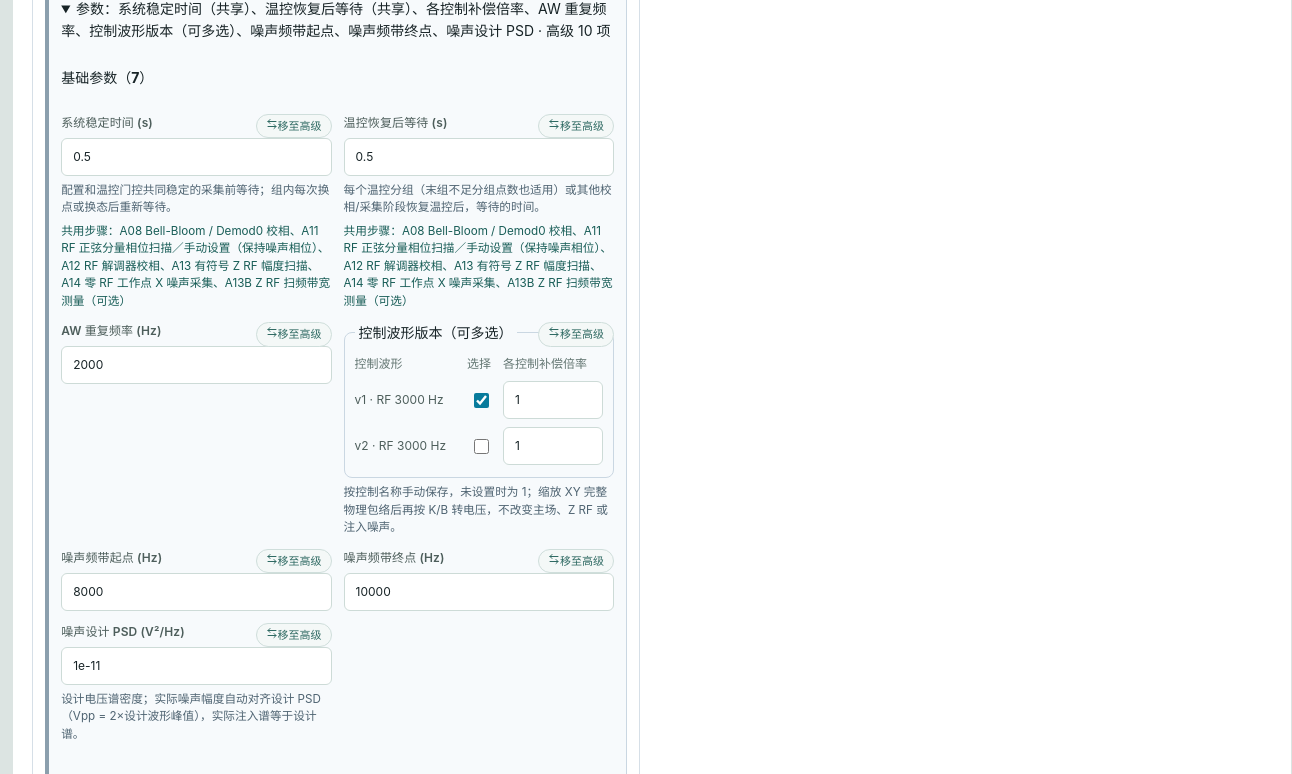
波形名称、勾选框和各自系数在同一行，多选补偿按名称保存
(page scrolled)
Replace the text in the number field next to "v1 · RF 3000 Hz" with "1.25" at (553, 400), box x1=503 y1=381 x2=603 y2=419
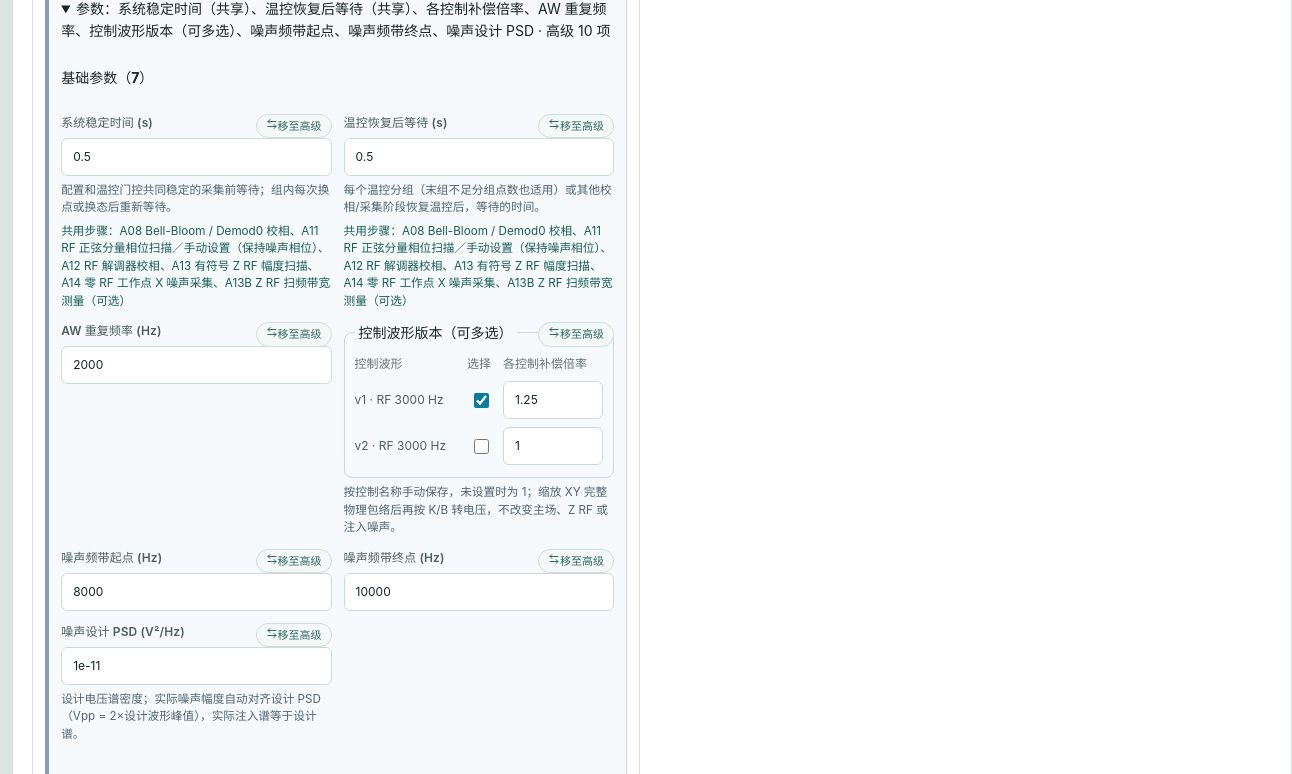
Replace the text in the number field next to "v2 · RF 3000 Hz" with "0.8" at (553, 446), box x1=503 y1=427 x2=603 y2=465
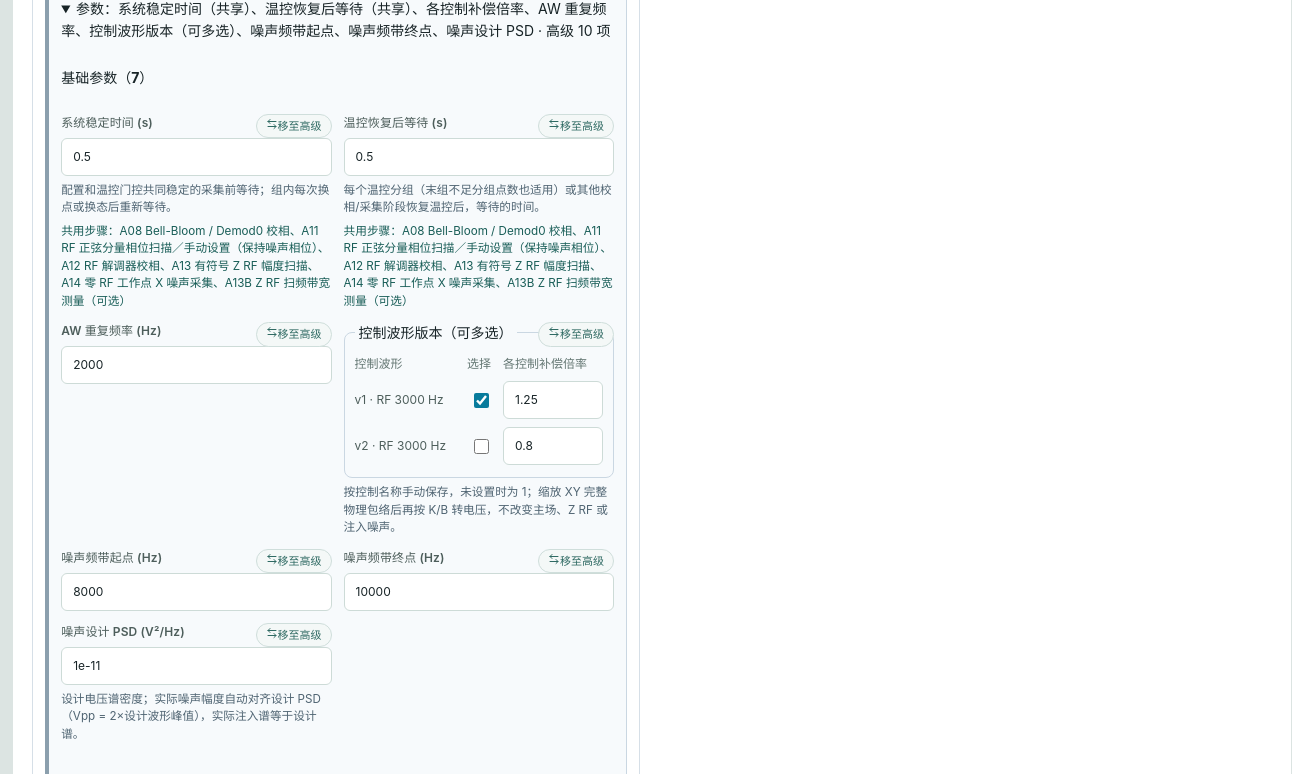
Click the checkbox labelled "v2 · RF 3000 Hz" at (481, 446), box x1=474 y1=439 x2=488 y2=454
(page scrolled)
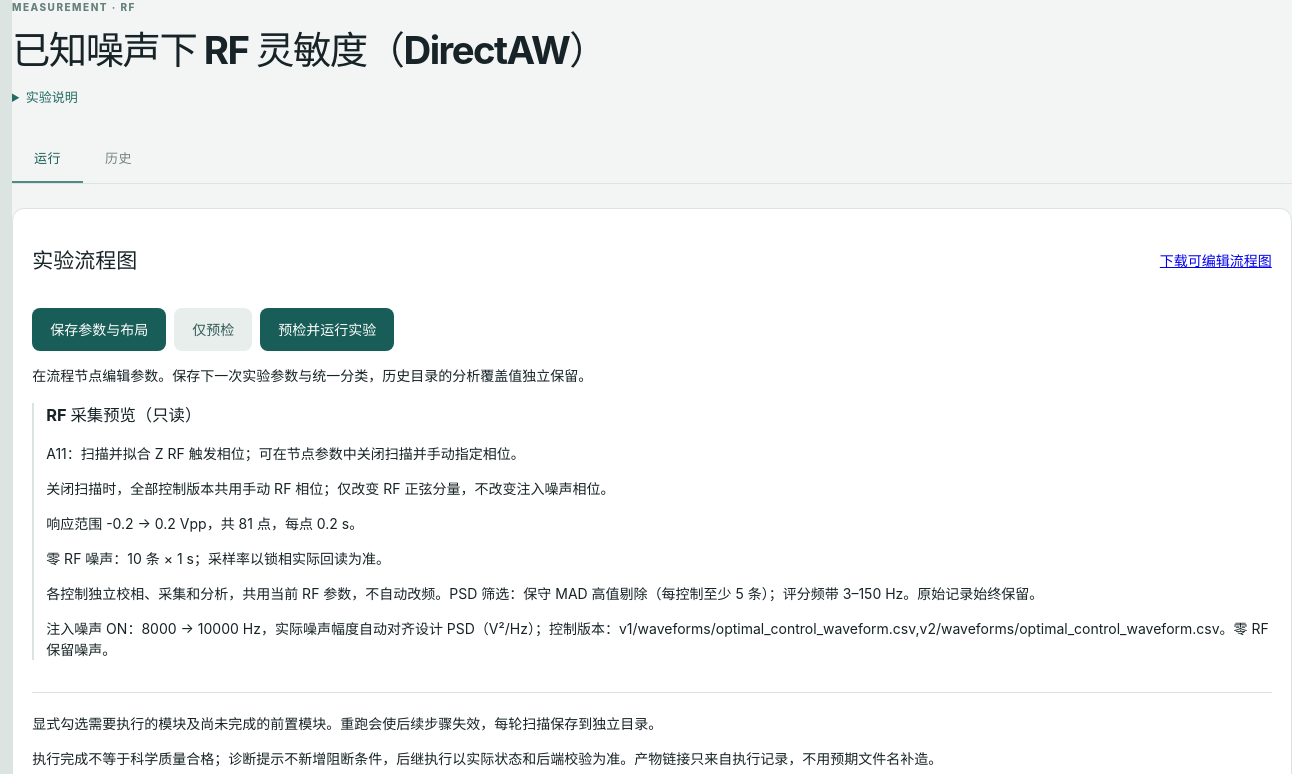
Click the button "保存参数与布局" at (99, 330), box x1=32 y1=308 x2=166 y2=351
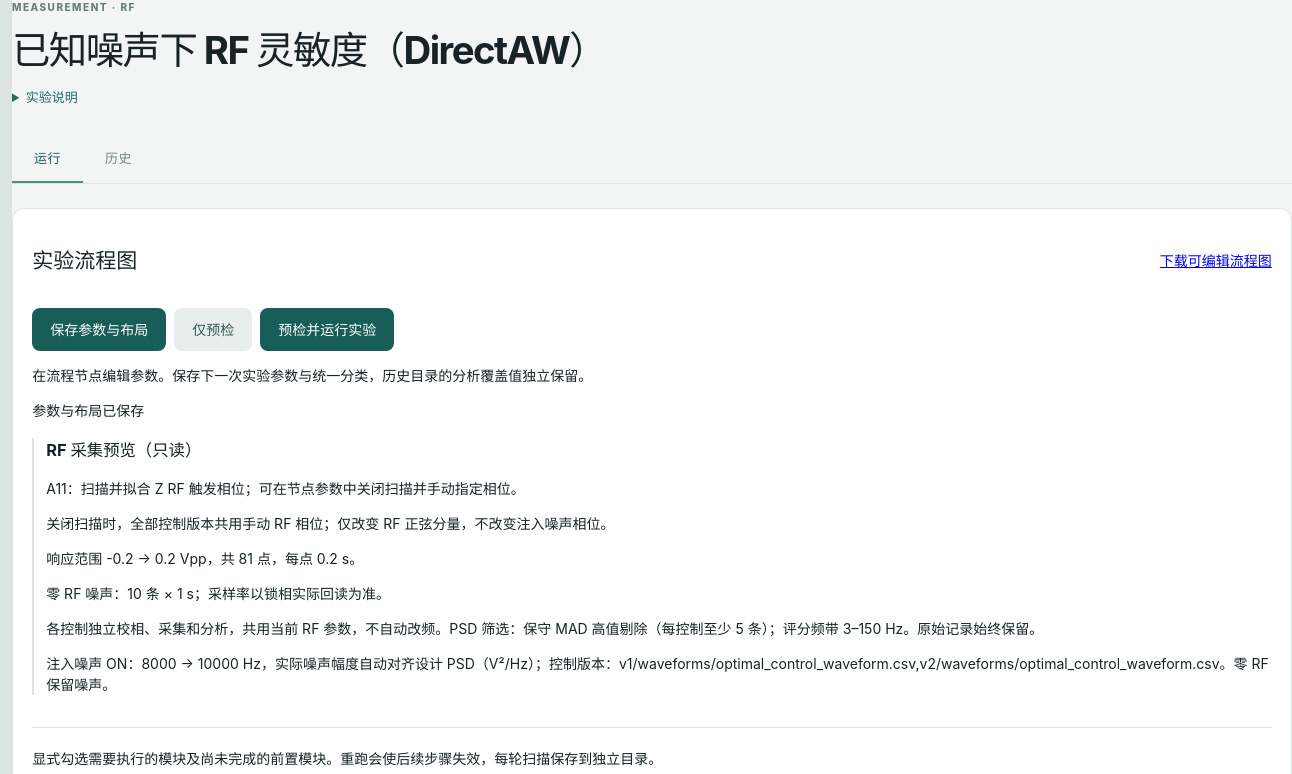
Expected: the text "参数与布局已保存" is shown, x1=32 y1=402 x2=144 y2=419
